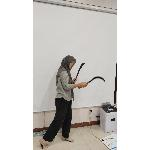Celurit: (82, 76, 106, 88)
Golok: (73, 62, 89, 84)
